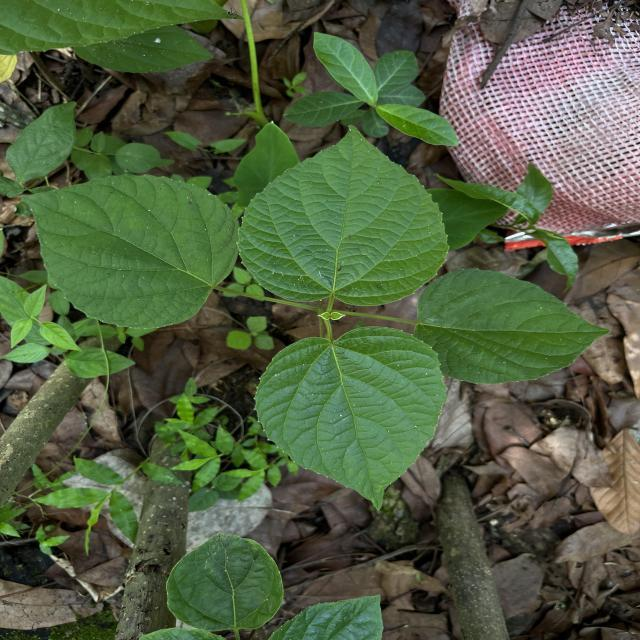Clerodendrum infortunatum: (238, 122, 454, 309), (251, 324, 451, 513), (18, 171, 242, 331), (414, 268, 615, 384)
